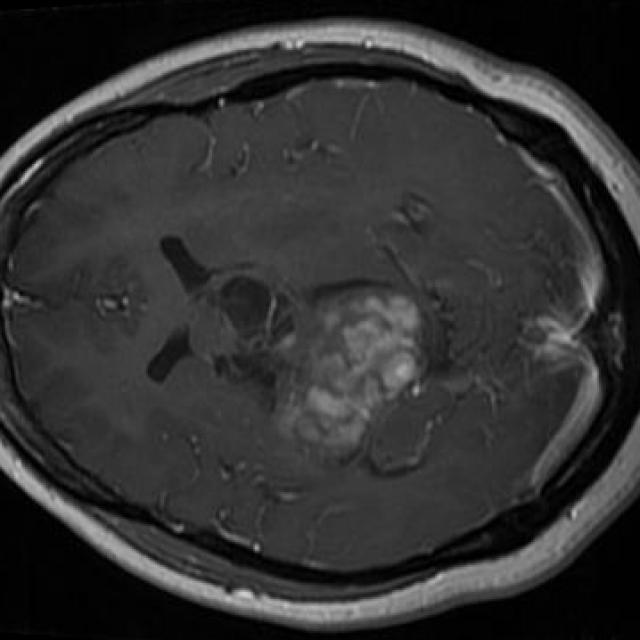glioma: (275, 287, 419, 456)
